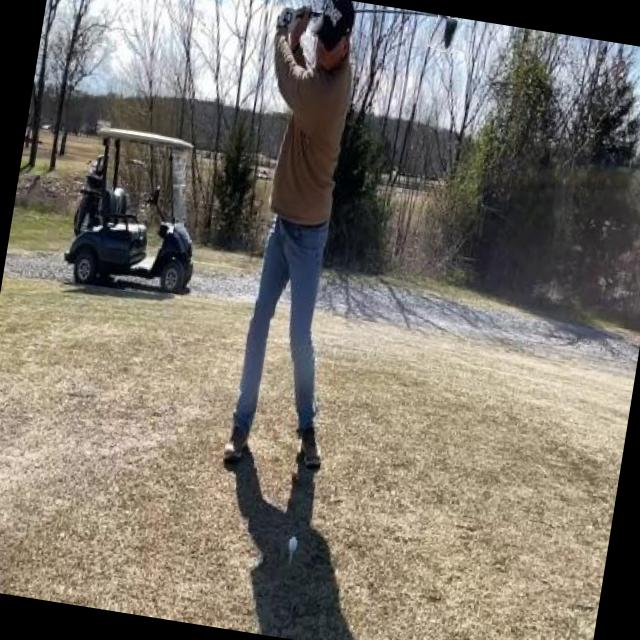club head: (428, 14, 461, 53)
